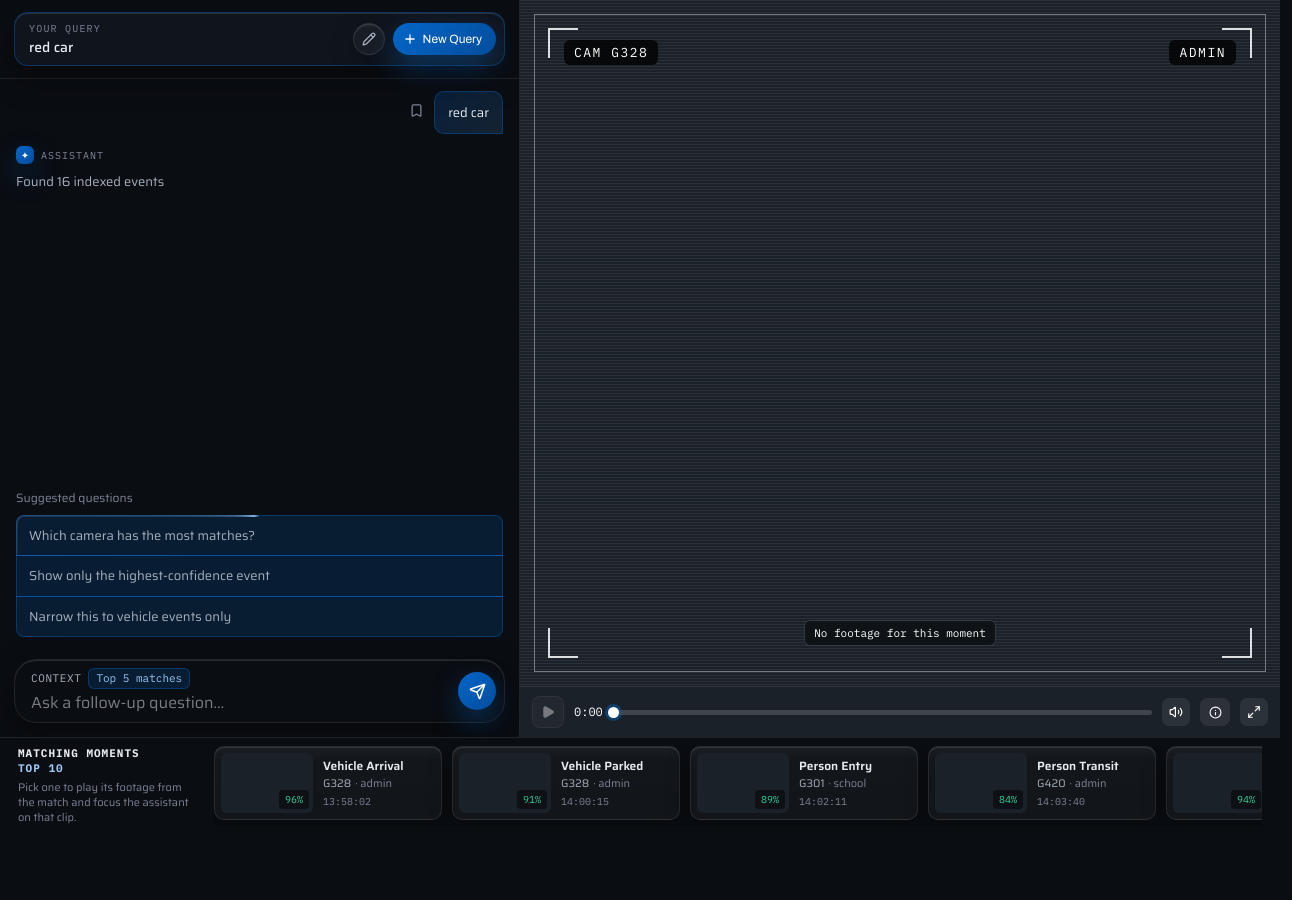
Test: Results › expands the video by collapsing the chat, then brings the chat back as it was
In the field with placeholder "Ask a follow-up question…": (240, 703) [31,692,448,714], type "half-typed"
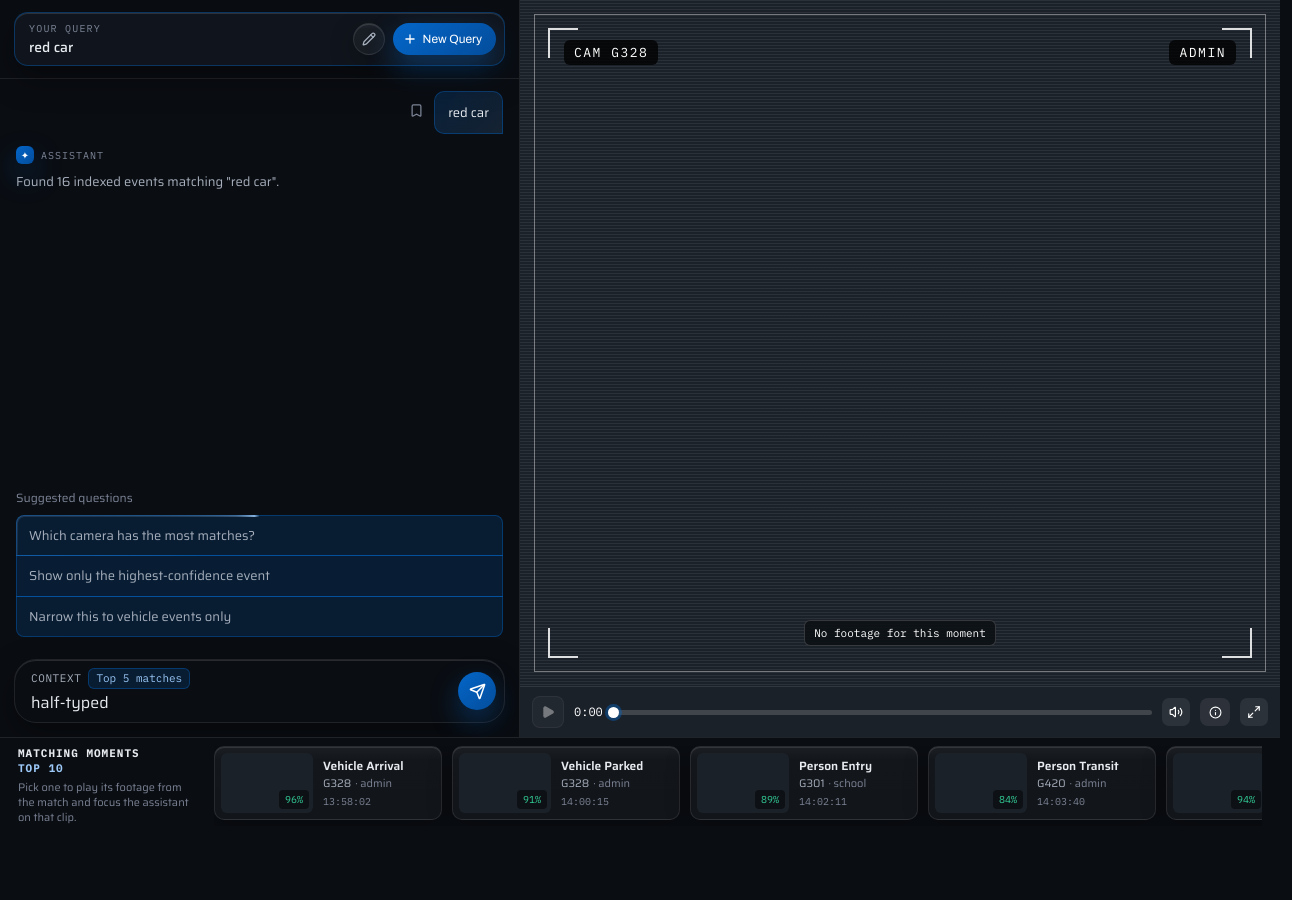
Click the button named "Expand video": (1254, 712) [1240,698,1268,726]
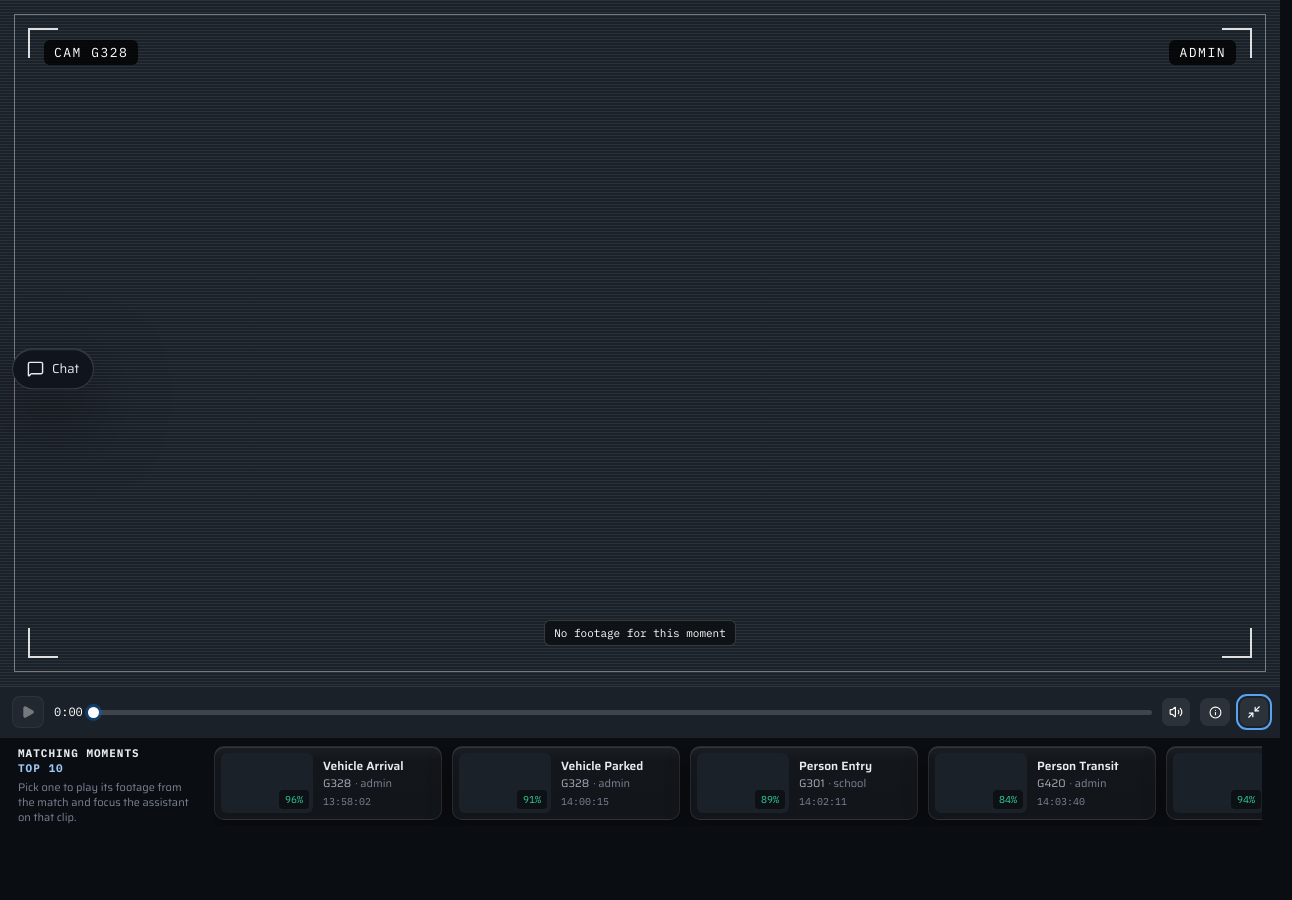
Result: the text "YOUR QUERY" is gone
Click the button named "Expand video": (1254, 712) [1240,698,1268,726]
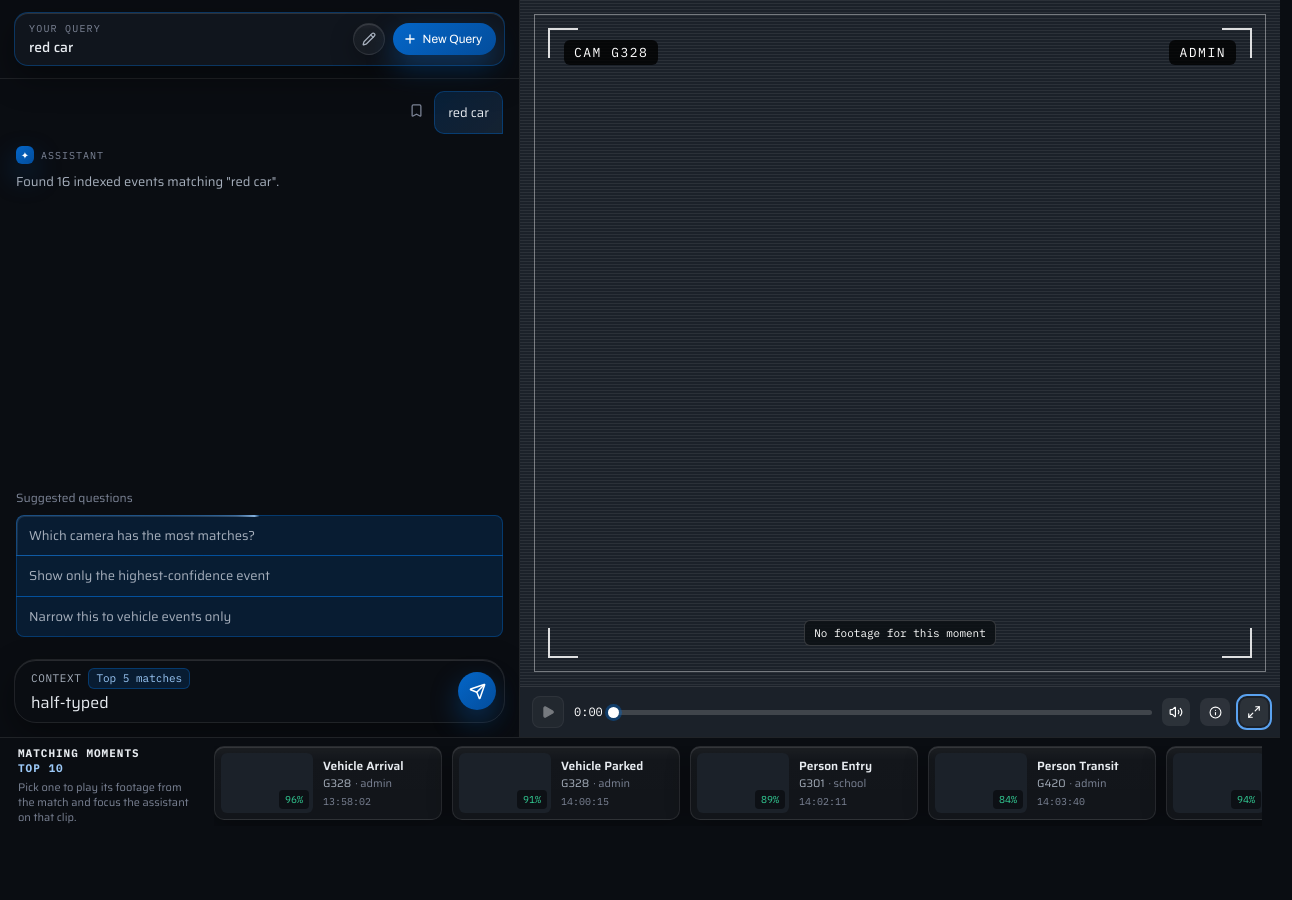
Result: the element "YOUR QUERY" is shown at [14,12,505,66]
